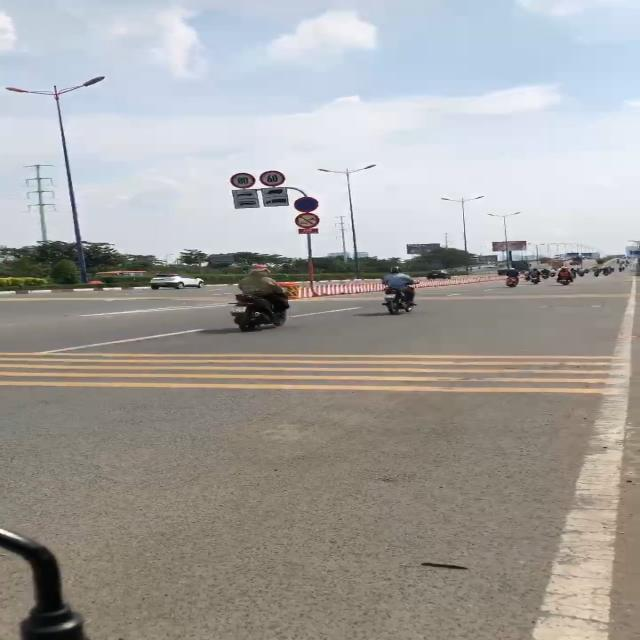Bien bao toc do toi da cho phep: (258, 169, 287, 188), (228, 172, 257, 190)
